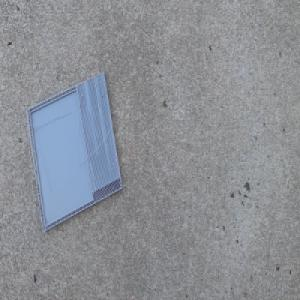PlasticPart: (25, 69, 123, 233)
